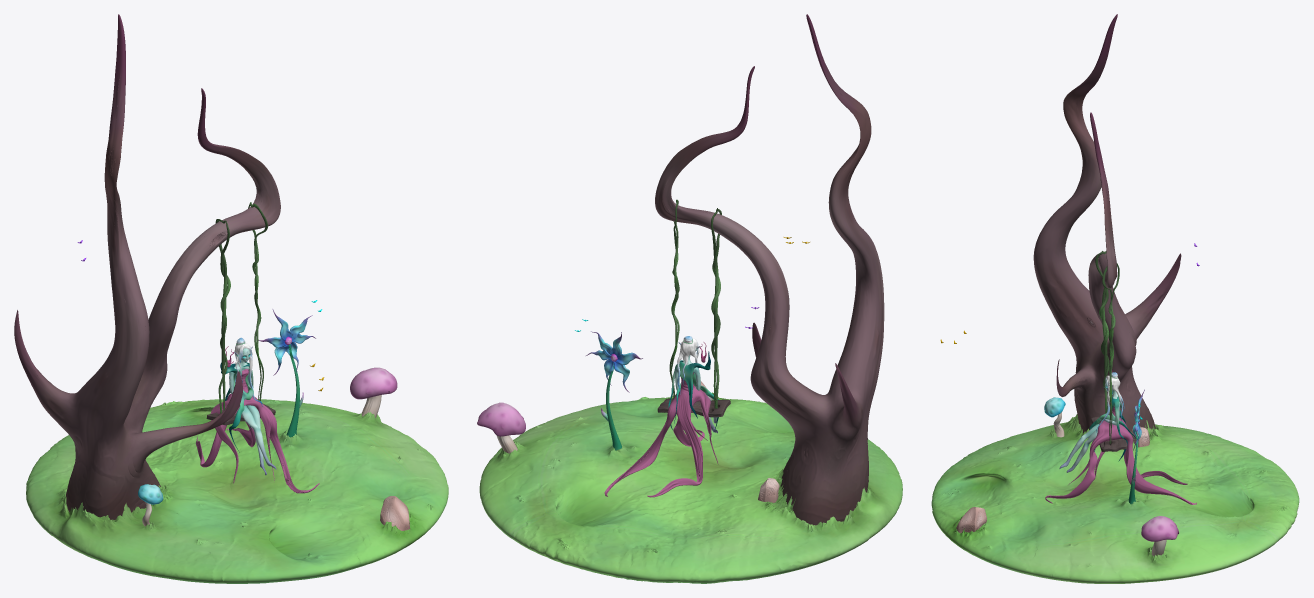
3 renders of one model, left to right at view 1: azimuth 30°, elevation 25°; view 2: azimuth 150°, elevation 25°; view 3: azimuth 270°, elevation 25°, orthographic. The views are drawn at different scales.
Parts seen in each view (by area): view 1: Object_4, Object_10, Object_22, Object_23, Object_37, Object_14, Object_29, Object_12, Object_31; view 2: Object_4, Object_10, Object_22, Object_23, Object_37, Object_14, Object_29, Object_12, Object_16; view 3: Object_4, Object_10, Object_22, Object_23, Object_37, Object_12, Object_14, Object_31.
Boxes of the visible parts, x1,y1,x2,y2 form: Object_4: [26, 399, 448, 583]; Object_10: [14, 14, 280, 520]; Object_22: [196, 337, 319, 493]; Object_23: [195, 338, 311, 493]; Object_37: [350, 367, 397, 399]; Object_14: [215, 219, 230, 424]; Object_29: [258, 309, 315, 375]; Object_12: [248, 202, 267, 401]; Object_31: [380, 496, 410, 530]; Object_4: [479, 392, 902, 583]; Object_10: [655, 14, 884, 525]; Object_22: [607, 336, 718, 497]; Object_23: [604, 336, 718, 496]; Object_37: [477, 402, 525, 436]; Object_14: [711, 208, 721, 408]; Object_29: [586, 331, 642, 392]; Object_12: [669, 199, 679, 398]; Object_16: [657, 398, 730, 417]; Object_4: [931, 414, 1299, 583]; Object_10: [1033, 14, 1181, 433]; Object_22: [1045, 370, 1187, 503]; Object_23: [1046, 370, 1196, 504]; Object_37: [1141, 516, 1178, 541]; Object_12: [1102, 263, 1119, 443]; Object_14: [1095, 251, 1109, 413]; Object_31: [956, 507, 986, 533].
Size of the model in its own units: 2.48 by 3.41 by 2.44.
Materials: 18 (18 with a texture image).
